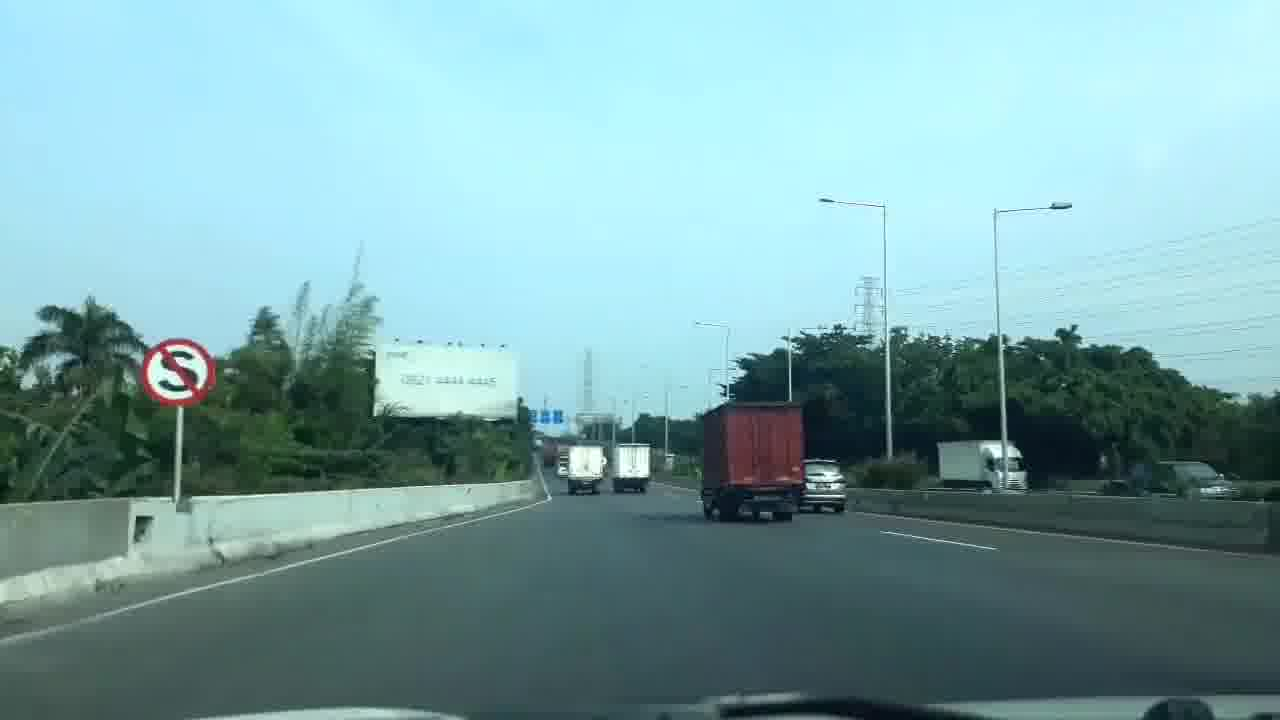plate_positive: (816, 483, 832, 488)
